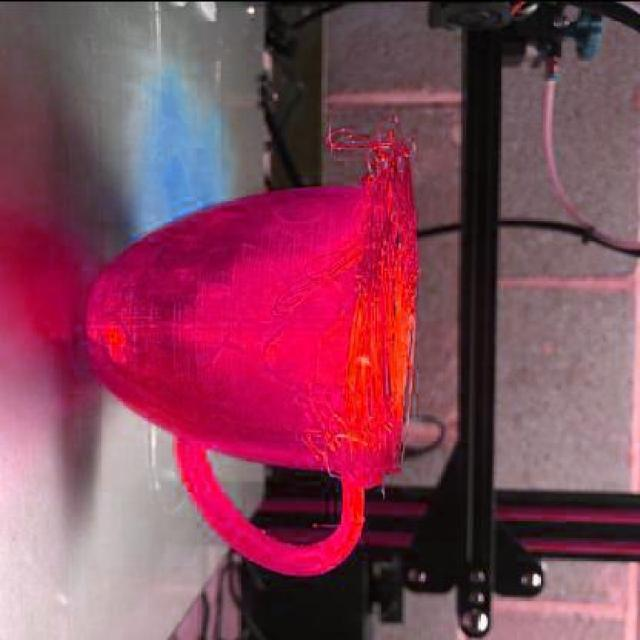Spaghetti: (302, 112, 422, 497)
